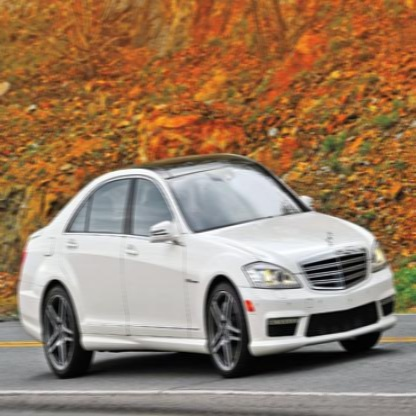Vehicle: (18, 154, 399, 381)
